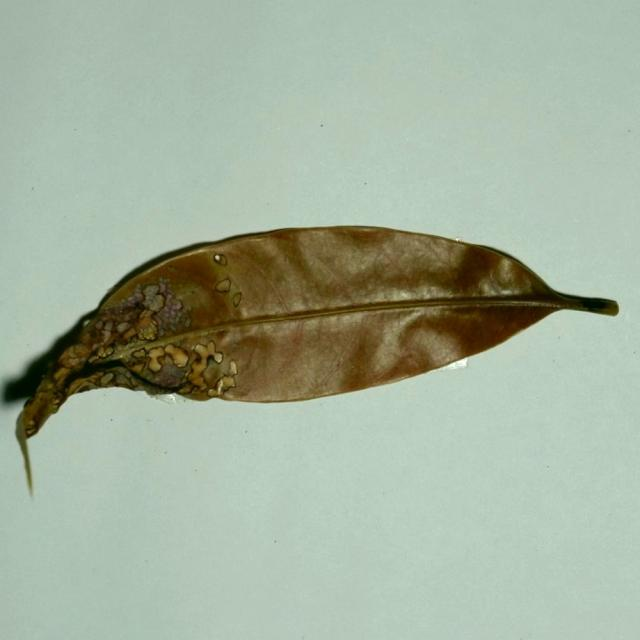Anthracnose: (144, 344, 231, 397), (92, 290, 151, 344), (148, 281, 188, 332), (209, 256, 244, 312), (91, 365, 153, 392), (58, 344, 89, 370), (140, 283, 166, 312), (65, 376, 97, 396), (97, 346, 112, 358)
Mango: (12, 227, 621, 463)
